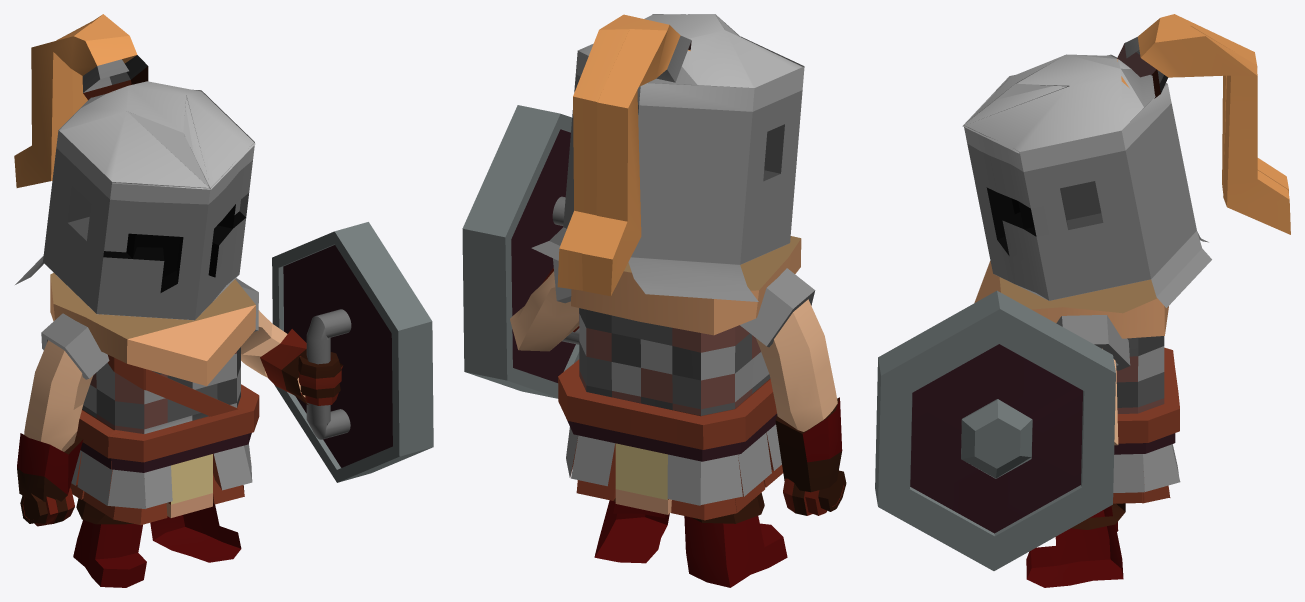
The model's file is guerrero.glb.
3 renders of one model, left to right at view 1: azimuth 30°, elevation 25°; view 2: azimuth 150°, elevation 25°; view 3: azimuth 270°, elevation 25°, orthographic. The views are drawn at different scales.
Visible parts, largest first — view 1: Cubo.045, Cubo.041, Cubo.043, Cubo.040, Cubo.044, Cubo.036, Cubo.038, Cubo.024, Cubo.030, Cubo.029, Cubo.032, Cubo.033 (+6 smaller); view 2: Cubo.045, Cubo.040, Cubo.041, Cubo.036, Cubo.037, Cubo.044, Cubo.024, Cubo.043, Cubo.030, Cubo.042, Cubo.032, Cubo.029 (+4 smaller); view 3: Cubo.041, Cubo.045, Cubo.036, Cubo.043, Cubo.040, Cubo.044, Cubo.029, Cubo.037, Cubo.042, Cubo.028.
Boxes of the visible parts, x1,y1,x2,y2 form: Cubo.045: (43,89,254,320); Cubo.041: (272,222,433,482); Cubo.043: (59,81,255,189); Cubo.040: (76,347,259,472); Cubo.044: (50,272,255,386); Cubo.036: (14,14,148,187); Cubo.038: (77,443,252,525); Cubo.024: (24,340,93,451); Cubo.030: (73,498,146,587); Cubo.029: (150,503,241,562); Cubo.032: (17,433,83,501); Cubo.033: (306,309,351,439); Cubo.045: (563,36,804,264); Cubo.040: (558,308,777,461); Cubo.041: (462,105,579,398); Cubo.036: (557,14,691,296); Cubo.037: (566,427,771,520); Cubo.044: (571,236,801,335); Cubo.024: (756,299,837,431); Cubo.043: (579,14,804,87); Cubo.030: (667,409,787,587); Cubo.042: (531,227,786,301); Cubo.032: (775,397,842,492); Cubo.029: (594,498,669,563); Cubo.041: (875,290,1115,570); Cubo.045: (964,54,1196,300); Cubo.036: (1117,14,1290,234); Cubo.043: (962,54,1166,153); Cubo.040: (1114,336,1179,454); Cubo.044: (974,261,1168,338); Cubo.029: (1026,503,1125,587); Cubo.037: (1113,444,1180,503); Cubo.042: (996,231,1211,307); Cubo.028: (1056,315,1130,370).
Bounding box in the file's own units: 2.35 × 3.47 × 2.51.
